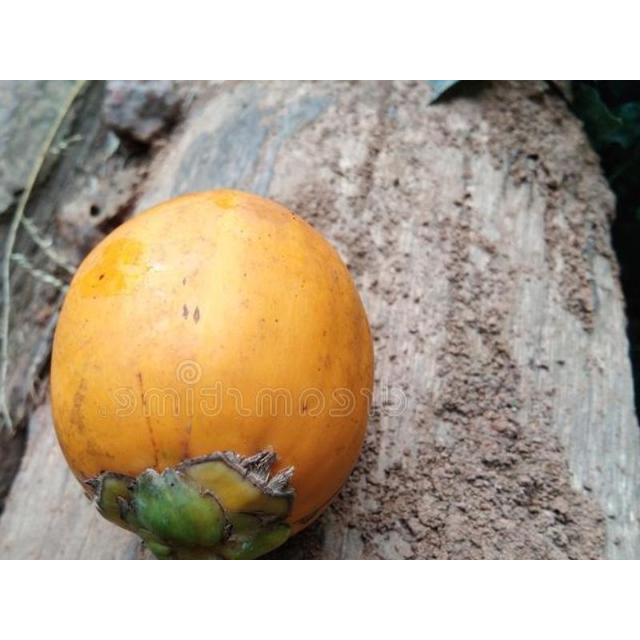good: (49, 189, 375, 559)
